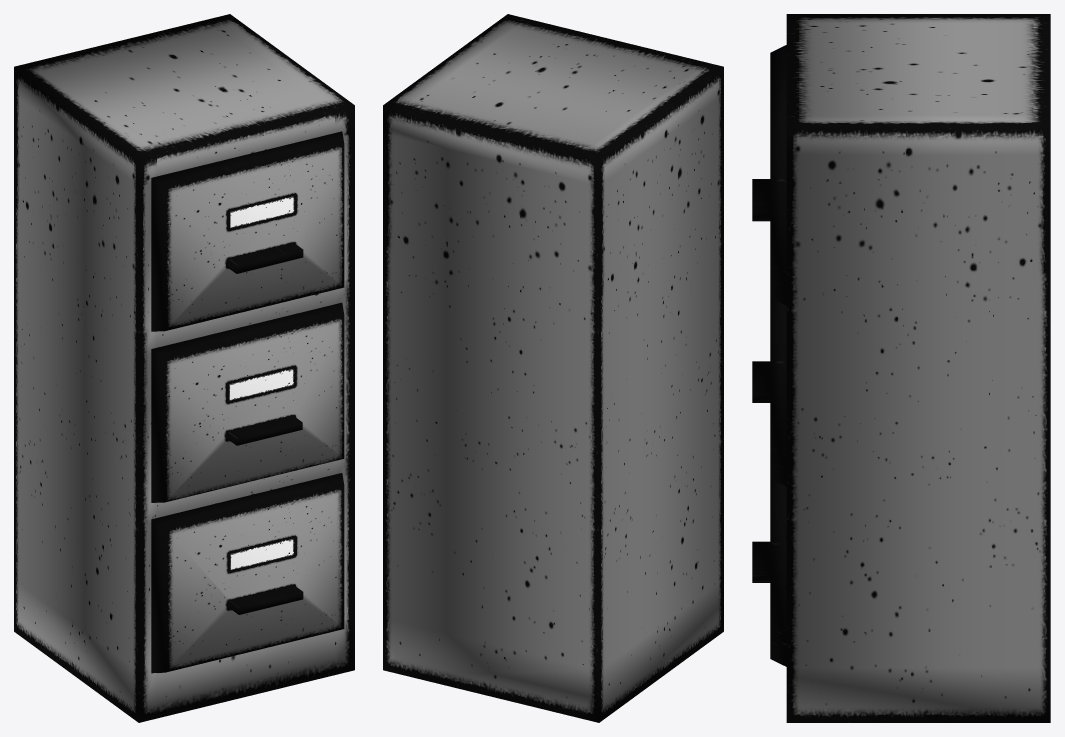
File: filing_cabinet.obj
3 views of the same model, side by side, from view 1: azimuth 30°, elevation 25°; view 2: azimuth 150°, elevation 25°; view 3: azimuth 270°, elevation 25° (orthographic). The views are drawn at different scales.
Parts seen in each view (by area): view 1: filing_cabinet; view 2: filing_cabinet; view 3: filing_cabinet.
Part boxes in pixels (box(x1,y1,x2,y2)): filing_cabinet: box(14, 14, 354, 722); filing_cabinet: box(383, 14, 723, 722); filing_cabinet: box(752, 14, 1050, 722).
Size of the model in its own units: 2 by 5 by 2.26.
